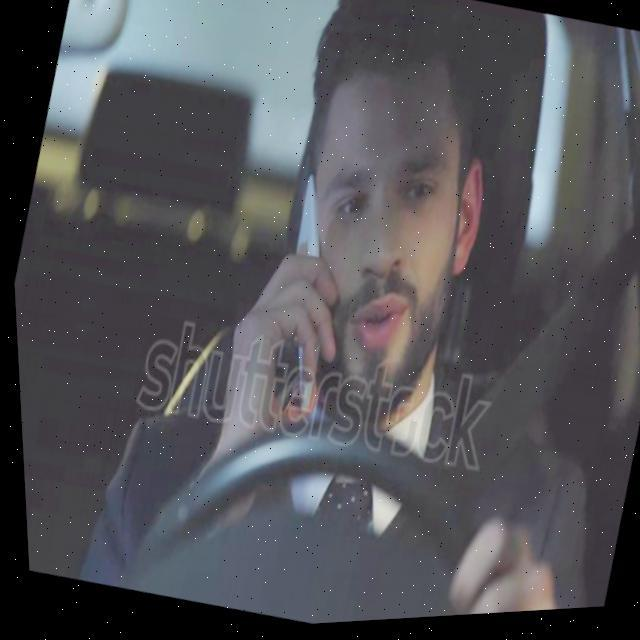PhoneCall: (250, 174, 361, 418)
